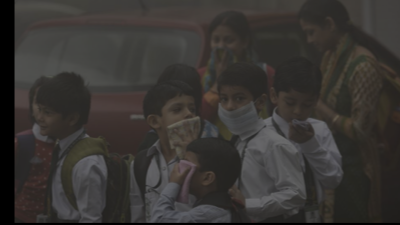mask_weared_incorrect: (219, 89, 256, 135), (208, 31, 241, 62)
with_mask: (178, 157, 203, 198)
without_mask: (162, 100, 197, 138), (276, 93, 316, 124), (36, 102, 64, 136), (301, 23, 325, 53)
